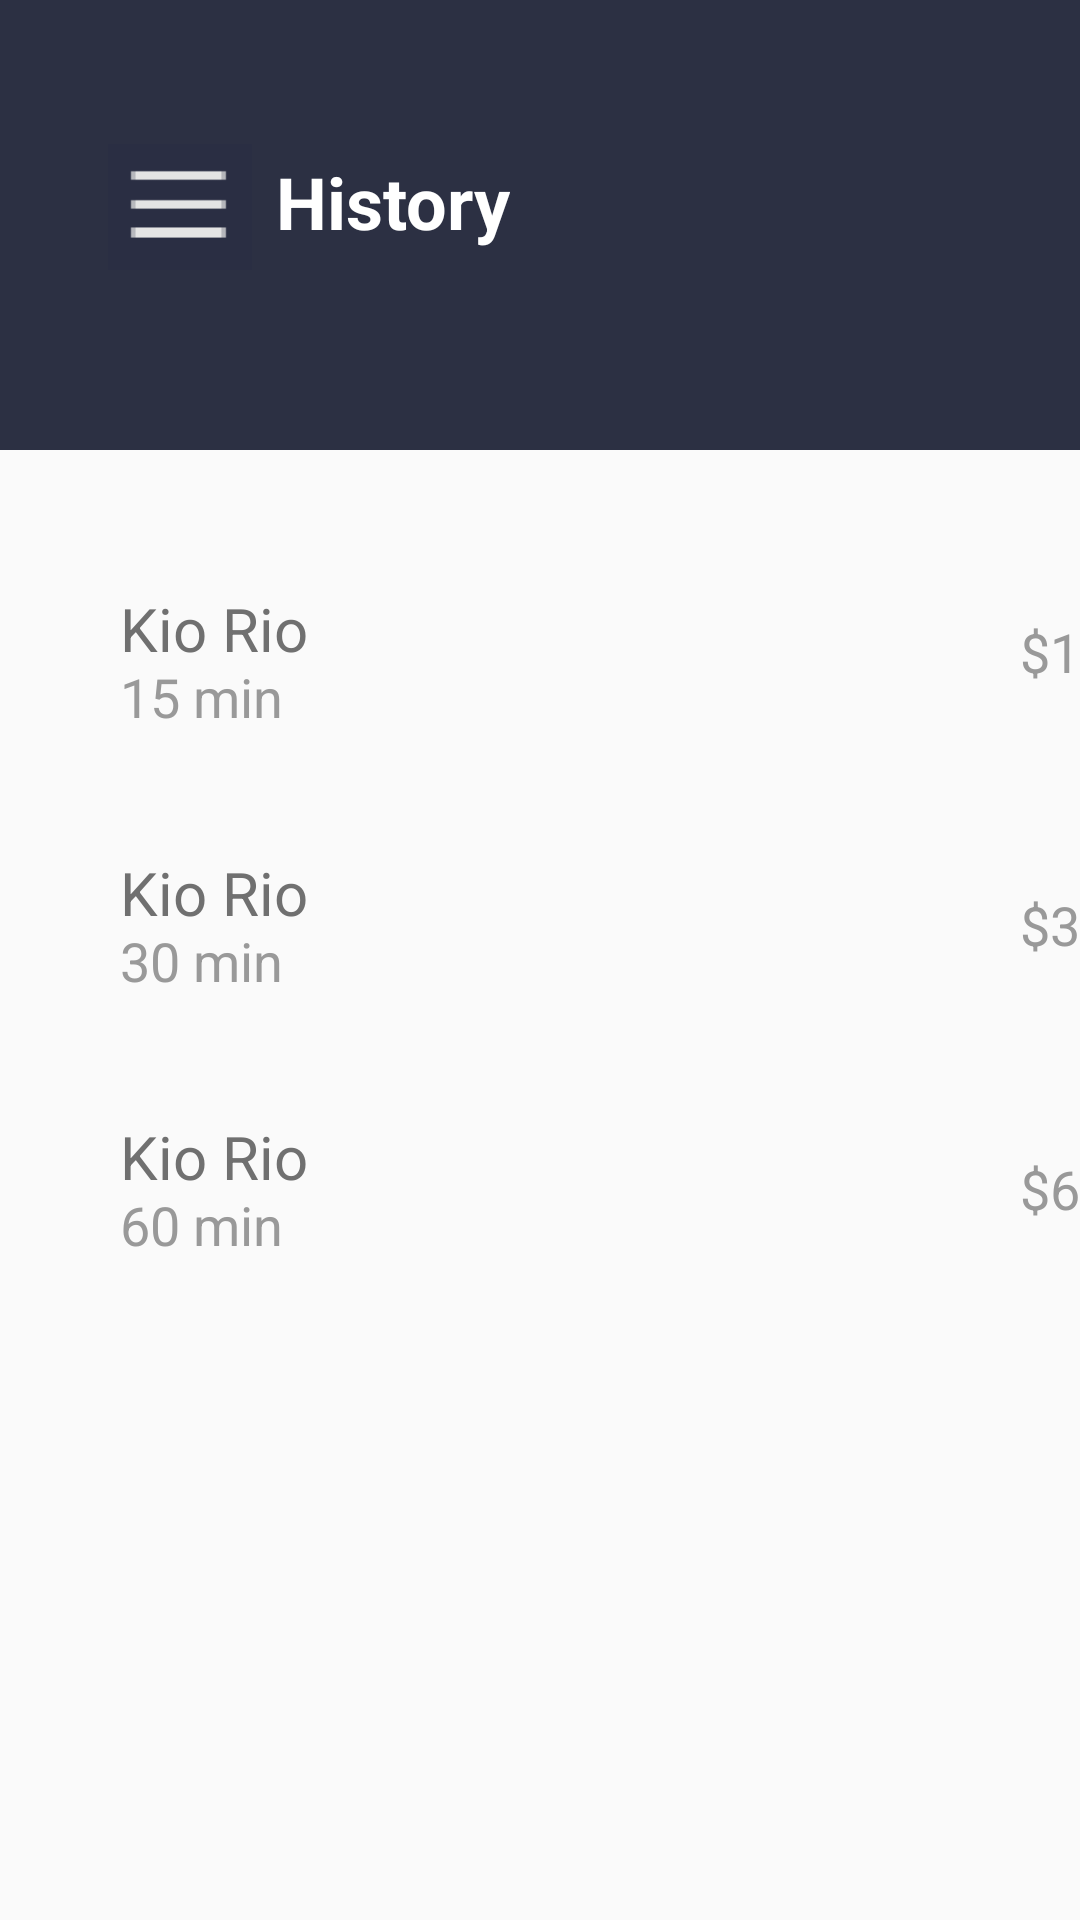

Icon bounding boxes for this 1080 × 1920 phone screenshot, format (x1=x1, y1=y1, x2=x2, y2=y2):
lines: (x1=130, y1=171, x2=226, y2=238)
